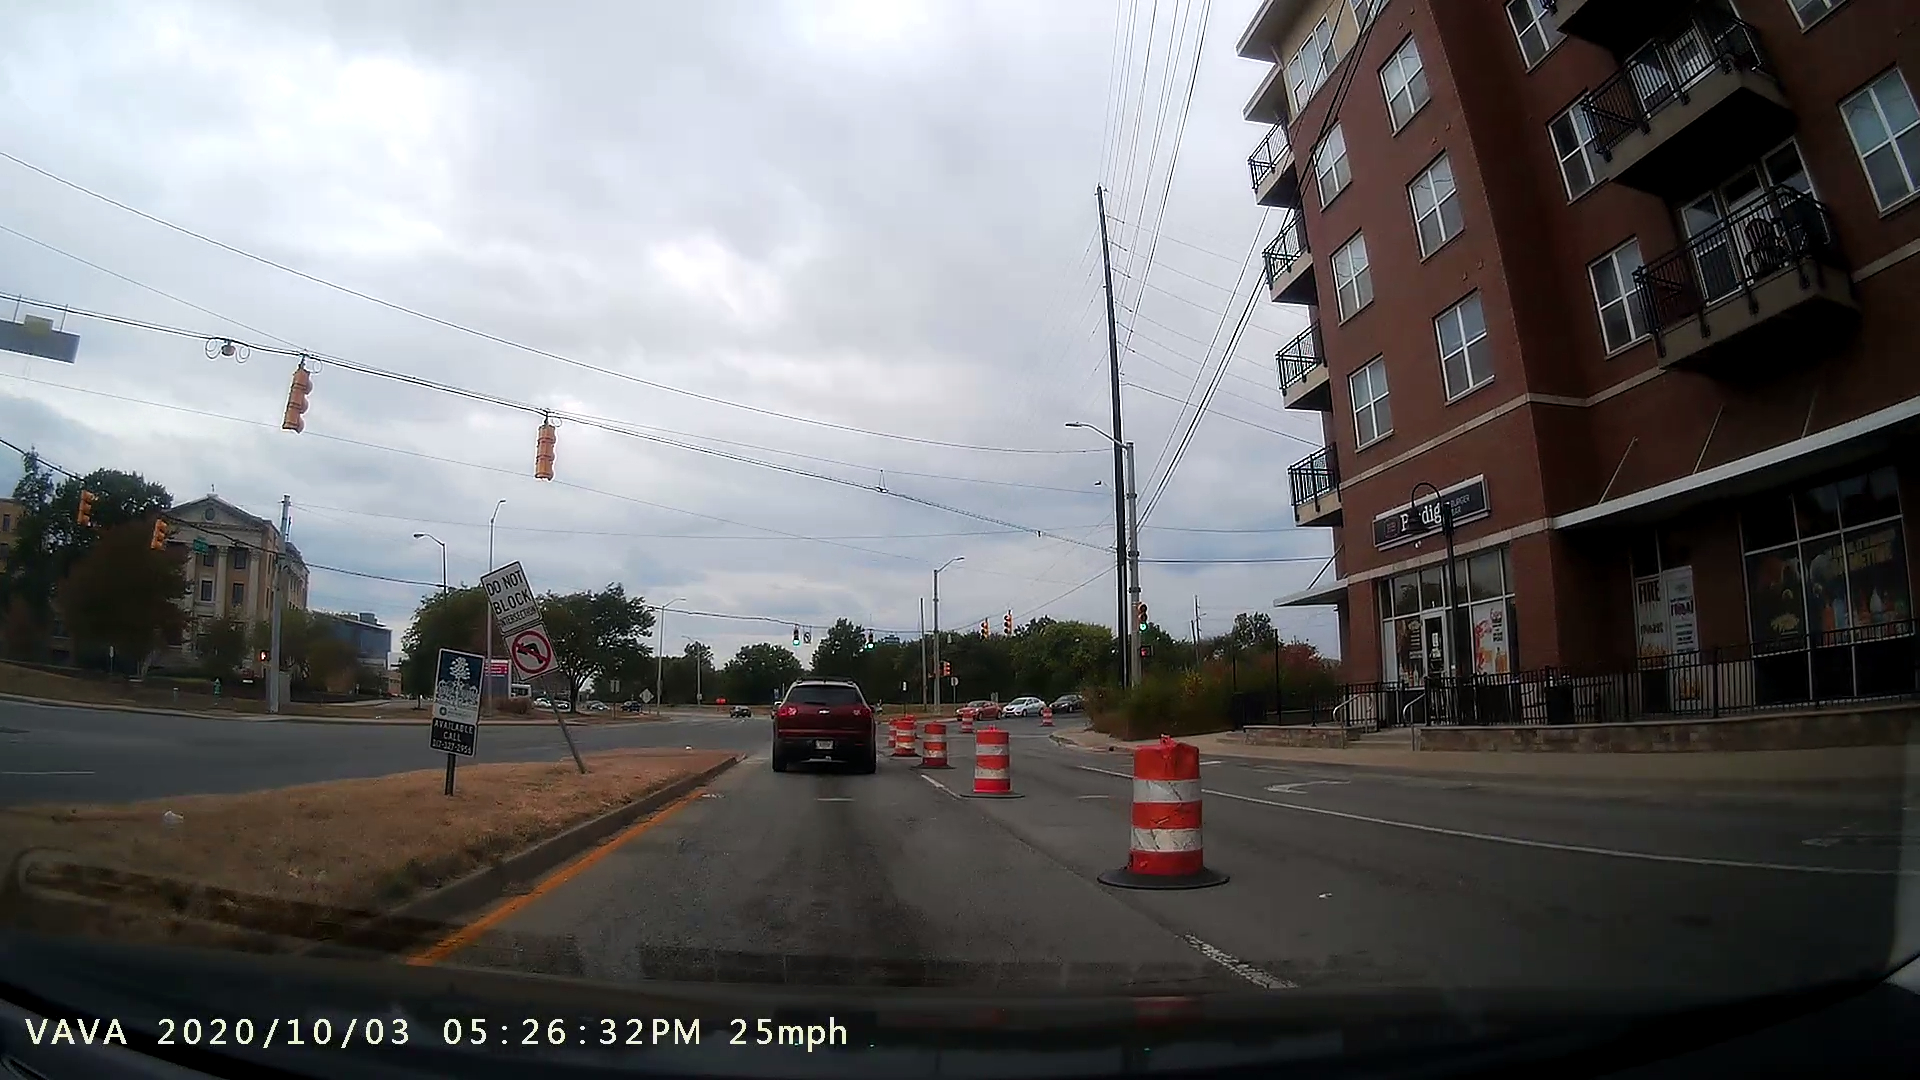const_barrel: (1084, 727, 1236, 897), (971, 713, 1026, 803), (915, 709, 951, 775)
